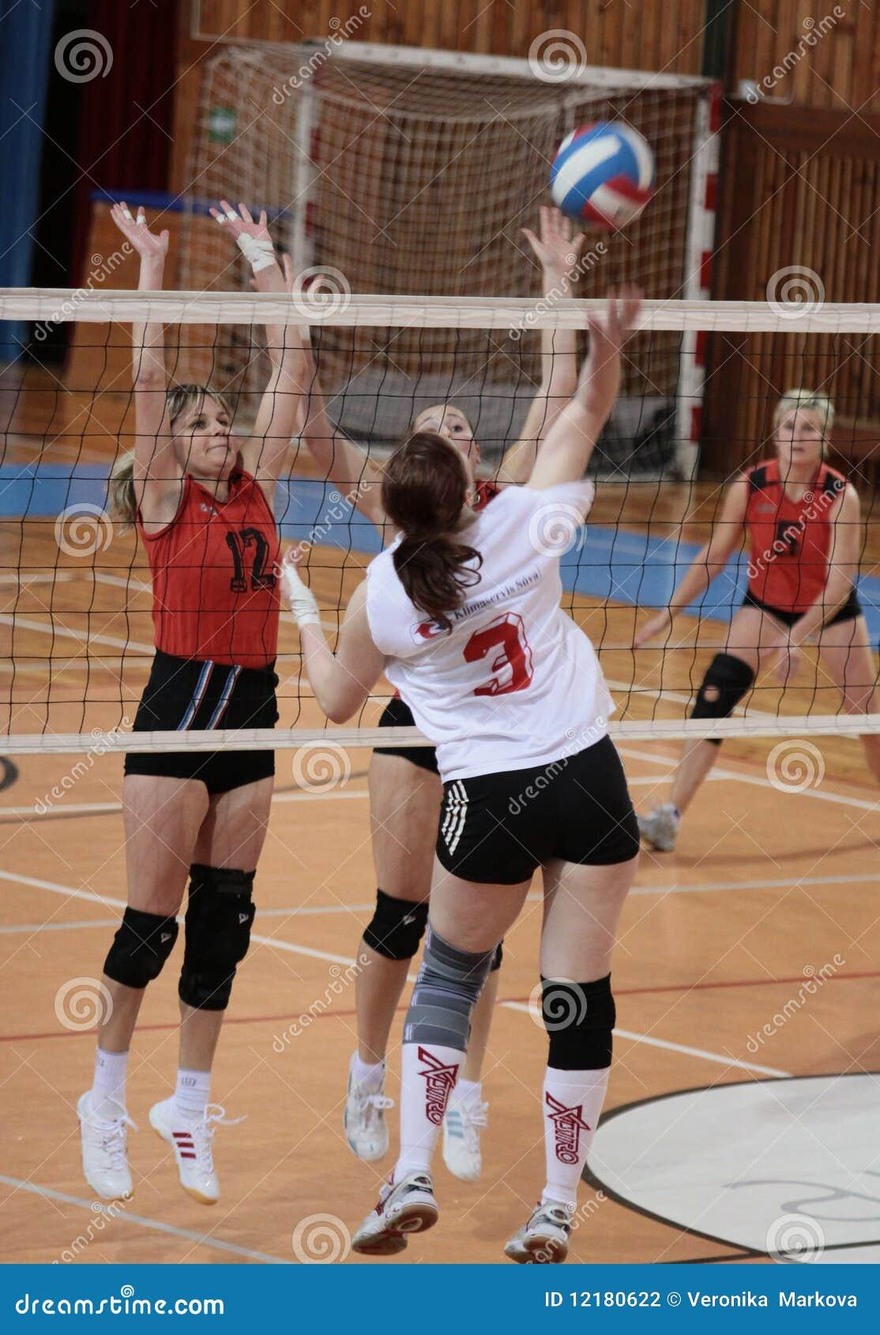ballon_volley: (549, 117, 656, 233)
